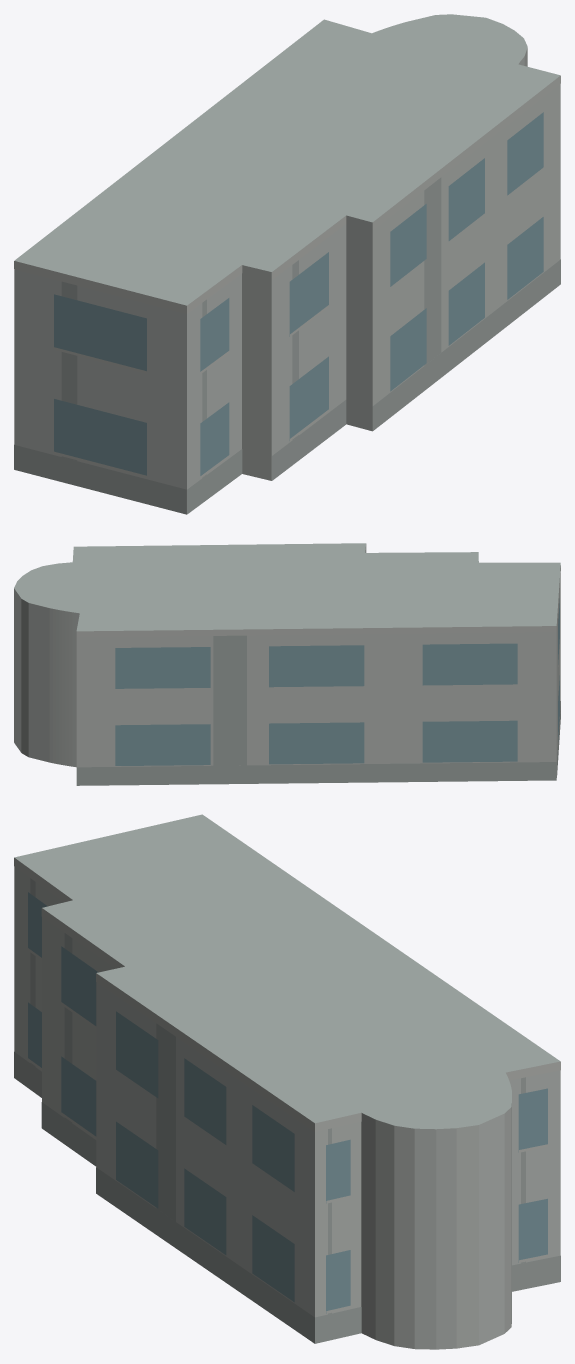
File: survey-upis-32738444.glb
The picture shows the model from 3 angles, top to bottom: view 1: azimuth 30°, elevation 25°; view 2: azimuth 150°, elevation 25°; view 3: azimuth 270°, elevation 25°; orthographic projection. The views are drawn at different scales.
Visible parts, largest first — view 1: survey-upis-32738444.tmp; view 2: survey-upis-32738444.tmp; view 3: survey-upis-32738444.tmp.
Part boxes in pixels (x1,y1,x2,y2): survey-upis-32738444.tmp: (14, 14, 560, 514); survey-upis-32738444.tmp: (14, 543, 560, 785); survey-upis-32738444.tmp: (14, 814, 560, 1349).
Size of the model in its own units: 18.68 by 6.1 by 13.72.
